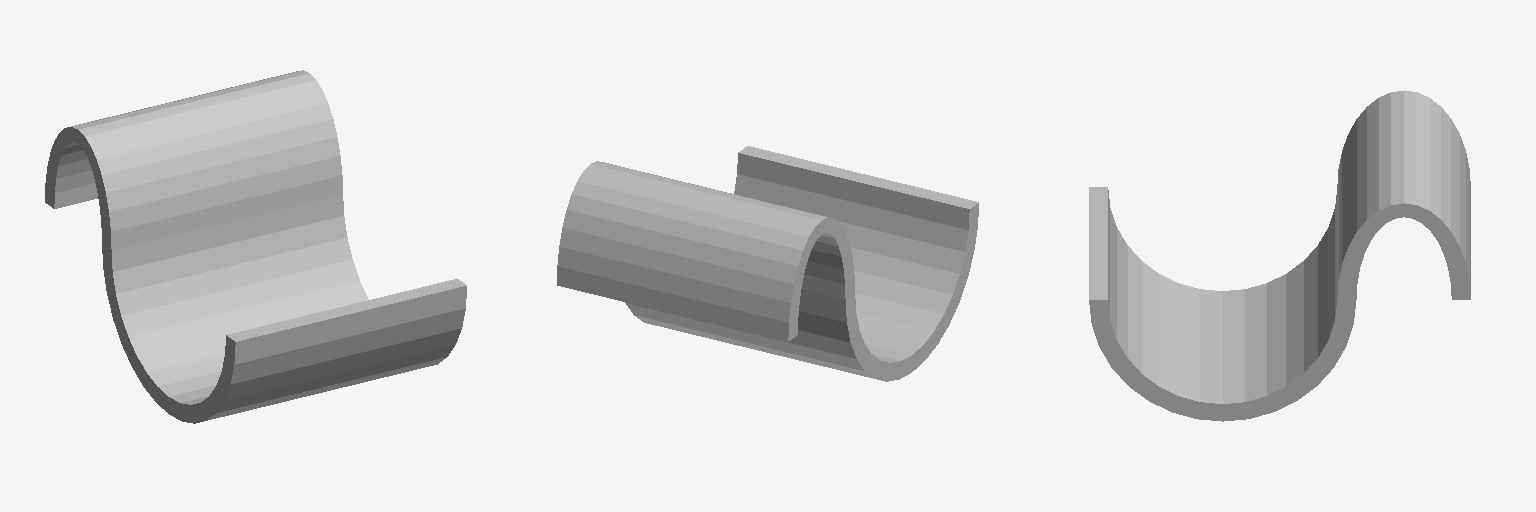
The model's file is roofmodel1.obj.
3 renders of one model, left to right at view 1: azimuth 30°, elevation 25°; view 2: azimuth 150°, elevation 25°; view 3: azimuth 270°, elevation 25°, orthographic.
Parts seen in each view (by area): view 1: Cylinder.000_Cylinder.002; view 2: Cylinder.000_Cylinder.002; view 3: Cylinder.000_Cylinder.002.
Boxes of the visible parts, box(x1,y1,x2,y2) form: Cylinder.000_Cylinder.002: box(45, 70, 466, 423); Cylinder.000_Cylinder.002: box(557, 146, 978, 381); Cylinder.000_Cylinder.002: box(1089, 90, 1470, 421).
Bounding box in the file's own units: 2 × 1.8 × 2.86.